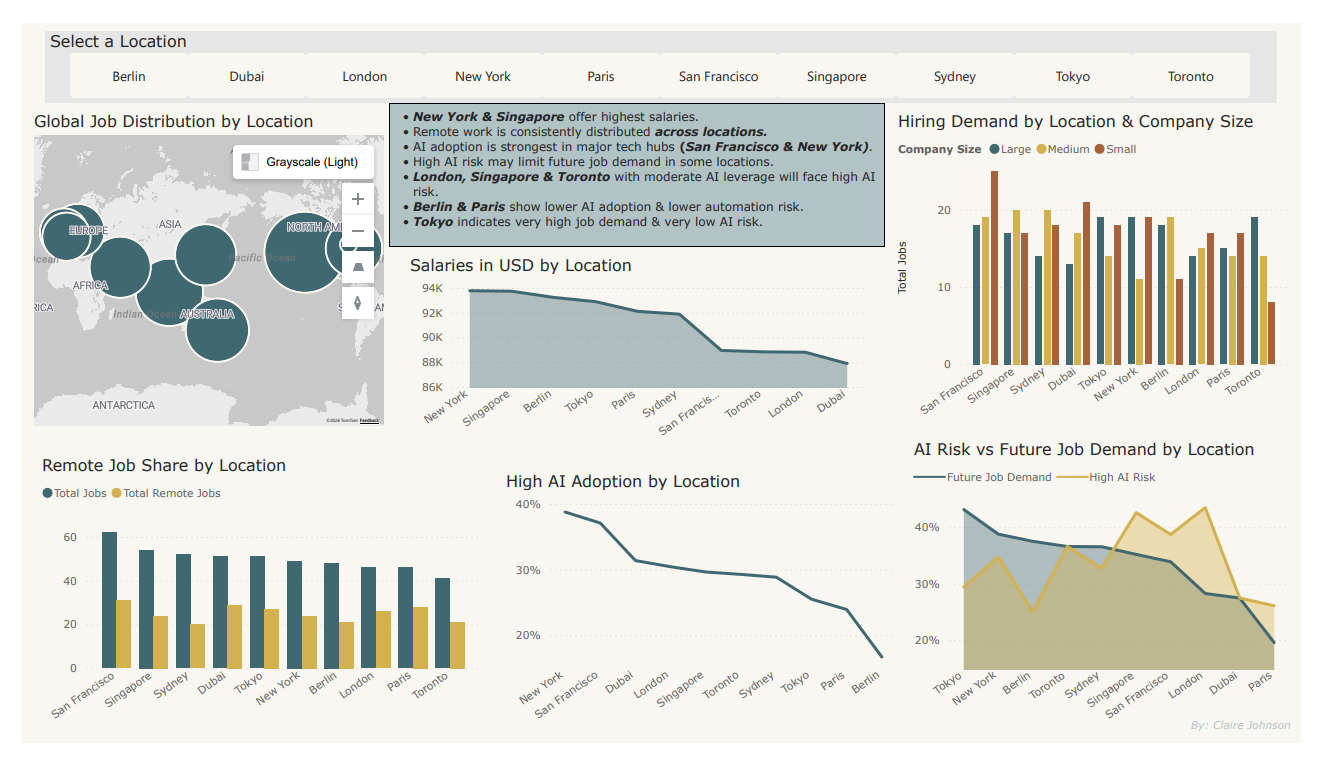

This screenshot's page, from the dashboard's own definition file:
{"tool":"powerbi","page":{"name":"Location Analysis","canvas":[1280,720],"ordinal":3},"visuals":[{"type":"areaChart","title":"Salaries in USD by Location","fields":{"Category":["ai_job_market_insights.Locations"],"Y":["Avg(ai_job_market_insights.Salary in USD)"]},"box":[384,232,464,192],"z":0},{"type":"azureMap","title":"Global Job Distribution by Location","fields":{"Category":["ai_job_market_insights.Locations"],"Size":["CountNonNull(ai_job_market_insights.Jobs)"]},"box":[8,88,360,320],"z":1000},{"type":"clusteredColumnChart","title":"Remote Job Share by Location","fields":{"Y":["CountNonNull(ai_job_market_insights.Jobs)","Sum(ai_job_market_insights.Remote)"],"Category":["ai_job_market_insights.Locations"]},"box":[16,432,448,280],"z":2000},{"type":"clusteredColumnChart","title":"Hiring Demand by Location & Company Size","fields":{"Y":["CountNonNull(ai_job_market_insights.Company Size)"],"Series":["Company Size.Company Size"],"Category":["ai_job_market_insights.Locations"]},"box":[872,88,400,320],"z":3000},{"type":"advancedSlicerVisual","title":"Select a Location","fields":{"Values":["ai_job_market_insights.Locations"]},"box":[24,8,1232,72],"z":4000},{"type":"lineChart","title":"High AI Adoption by Location","fields":{"Y":["ai_job_market_insights.High AI Adoption"],"Category":["ai_job_market_insights.Locations"]},"box":[480,448,400,264],"z":5000},{"type":"areaChart","title":"AI Risk vs Future Job Demand by Location","fields":{"Y":["ai_job_market_insights.Future Growth Roles","ai_job_market_insights.High Automation Risk"],"Category":["ai_job_market_insights.Locations"]},"box":[888,416,384,296],"z":6000},{"type":"textbox","box":[368,80,496,144],"z":7000},{"type":"textbox","box":[1160,688,120,32],"z":8000}]}

Visuals, with their boxes in screenshot pixels (x1, y1, x2, y2), scaled from the page's 1280x720 canvas onto the 1321x763 screenshot:
"Salaries in USD by Location" areaChart: 396/246/875/449
"Global Job Distribution by Location" azureMap: 8/93/380/432
"Remote Job Share by Location" clusteredColumnChart: 17/458/479/755
"Hiring Demand by Location & Company Size" clusteredColumnChart: 900/93/1313/432
"Select a Location" advancedSlicerVisual: 25/8/1296/85
"High AI Adoption by Location" lineChart: 495/475/908/755
"AI Risk vs Future Job Demand by Location" areaChart: 916/441/1313/755
textbox: 380/85/892/237
textbox: 1197/729/1320/762
